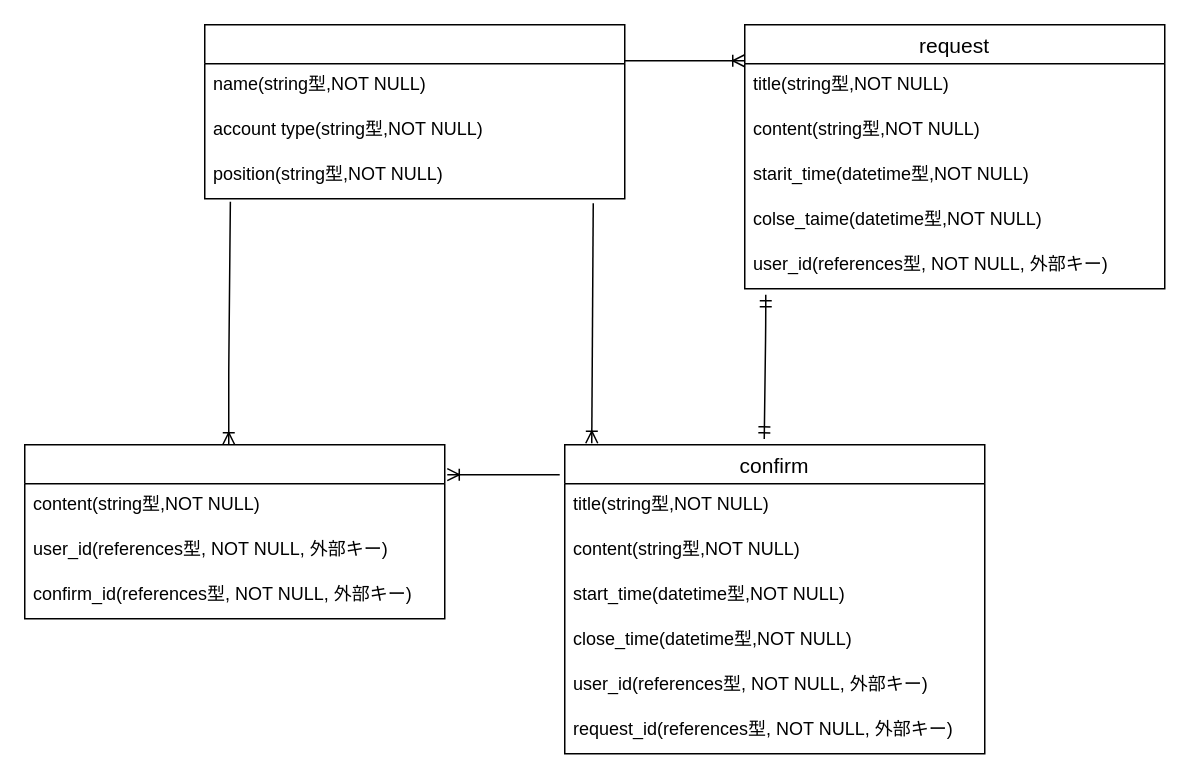
This 1190x779 diagram has some shape labels left out. The box of each missing label's shape, as (x1, y1, x2, y2) in pixels:
comment: (23, 443, 445, 619)
user: (203, 23, 625, 199)
